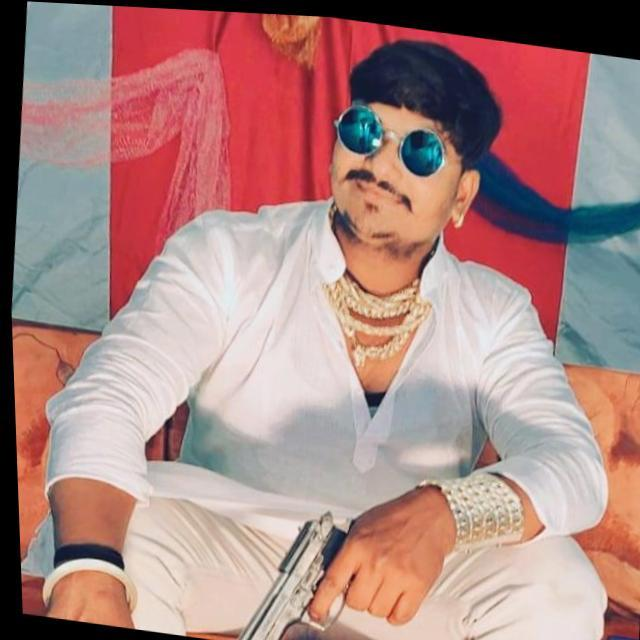weapon: (212, 491, 426, 640)
